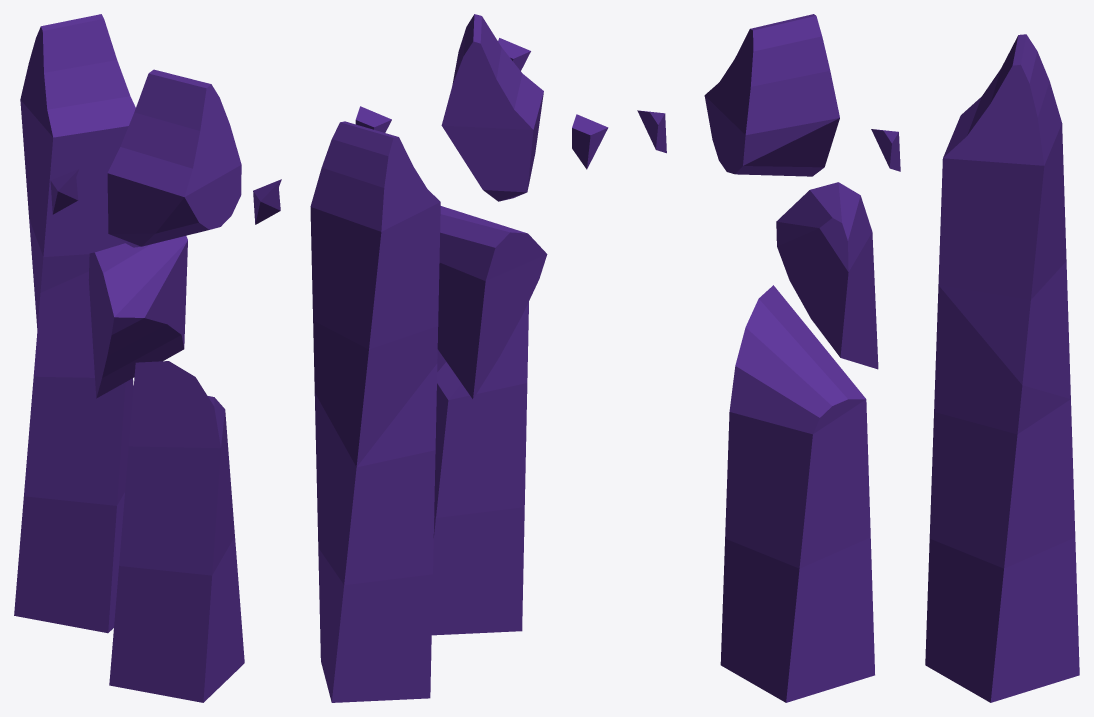
The model's file is NewRoks.fbx.
3 renders of one model, left to right at view 1: azimuth 30°, elevation 25°; view 2: azimuth 150°, elevation 25°; view 3: azimuth 270°, elevation 25°, orthographic. The views are drawn at different scales.
Parts seen in each view (by area): view 1: Cube.014, Cube.013; view 2: Cube.013, Cube.014; view 3: Cube.013, Cube.014.
Part boxes in pixels (x1,y1,x2,y2): Cube.014: [50, 69, 281, 702]; Cube.013: [14, 14, 135, 633]; Cube.013: [310, 121, 440, 702]; Cube.014: [355, 14, 608, 635]; Cube.013: [925, 34, 1079, 702]; Cube.014: [637, 14, 900, 702].
Size of the model in its own units: 175 by 489 by 303.
